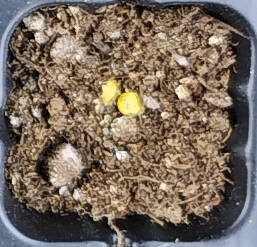chilli seed: (117, 91, 140, 115), (102, 77, 118, 103)
